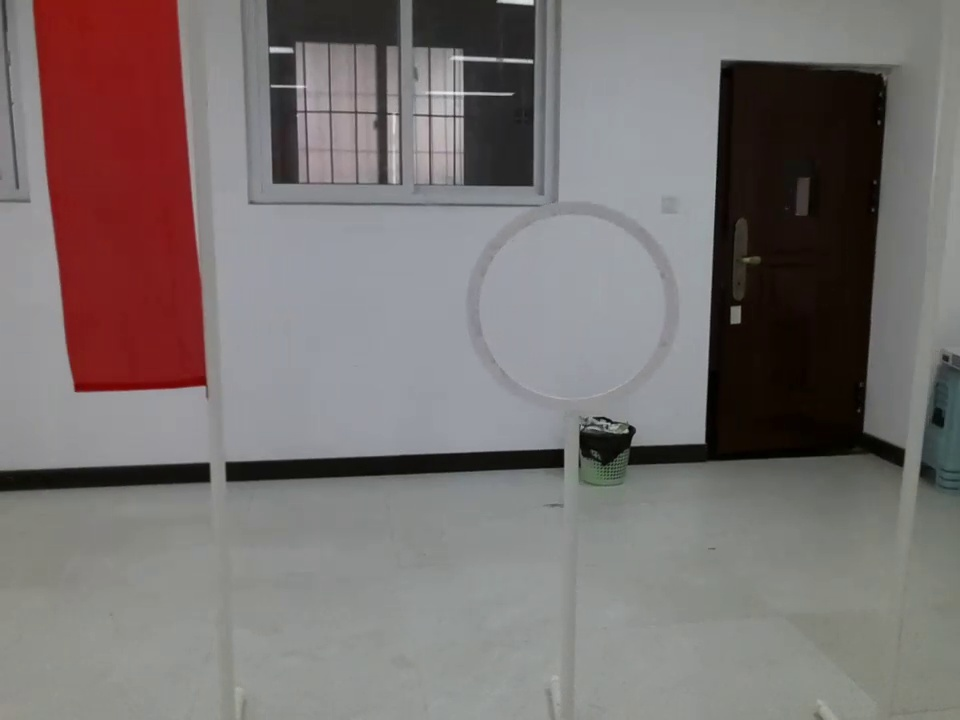gan: (903, 1, 960, 559)
qi: (28, 1, 221, 394)
quan: (445, 192, 712, 433)
